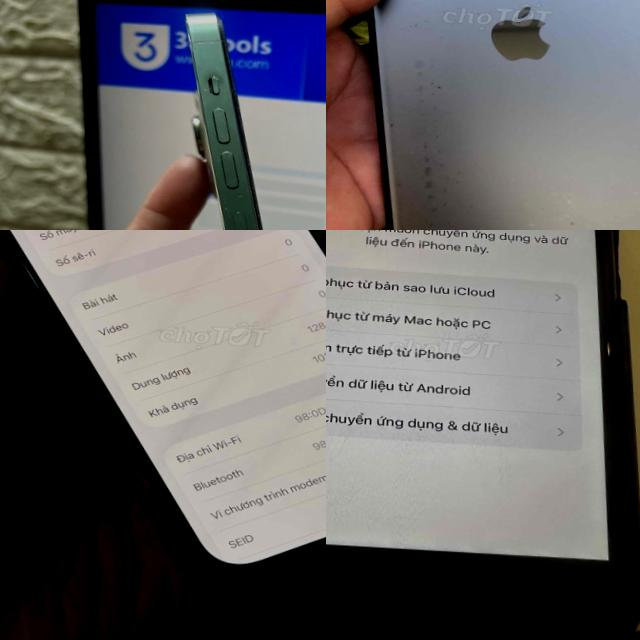gen_11: (370, 0, 640, 230)
gen_15: (0, 230, 326, 576), (139, 9, 326, 230)
gen_7_8: (326, 230, 640, 640)
